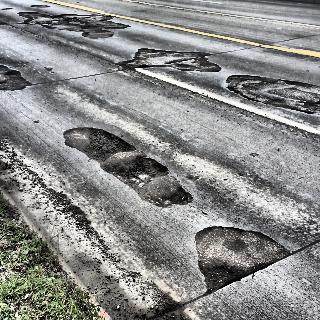pothole: (63, 124, 189, 213), (195, 222, 286, 288), (123, 40, 223, 85), (18, 4, 130, 43), (227, 70, 320, 116), (0, 59, 31, 92)
